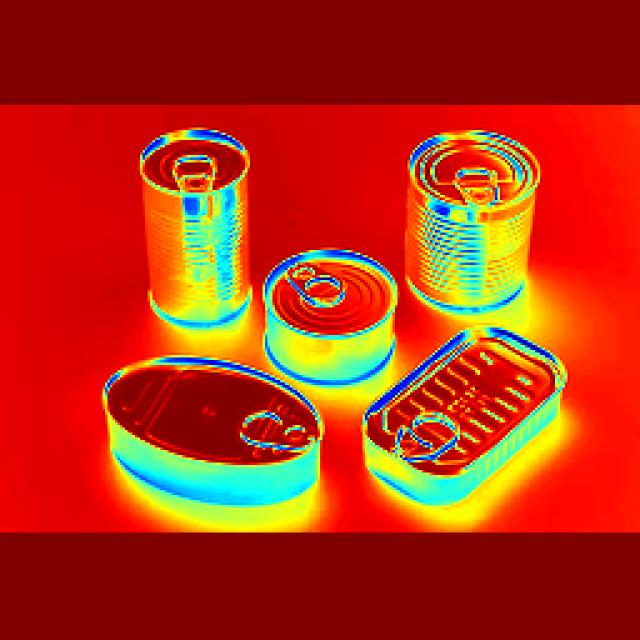Aluminium Food Cans: (91, 341, 341, 542), (360, 332, 577, 502), (130, 125, 262, 323), (408, 134, 538, 320), (262, 238, 403, 396)
